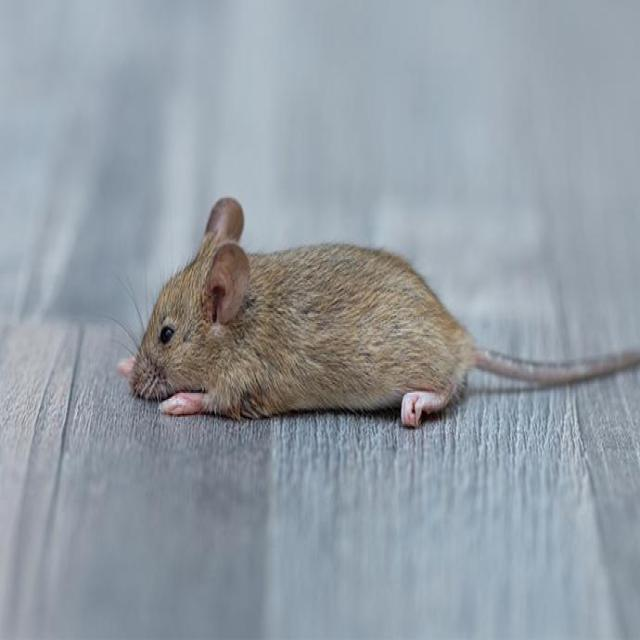rat: (106, 185, 640, 443)
